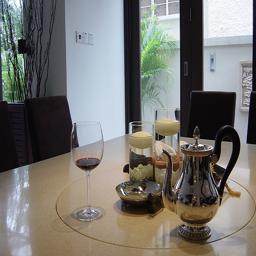chair: (46, 139, 155, 239), (1, 148, 41, 256), (206, 134, 256, 208)
diningtable: (122, 166, 256, 256)
